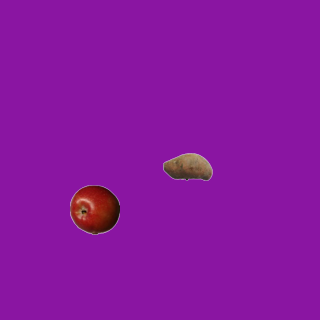Apple Braeburn: (69, 184, 119, 234)
Potato Sweet: (162, 141, 212, 191)
